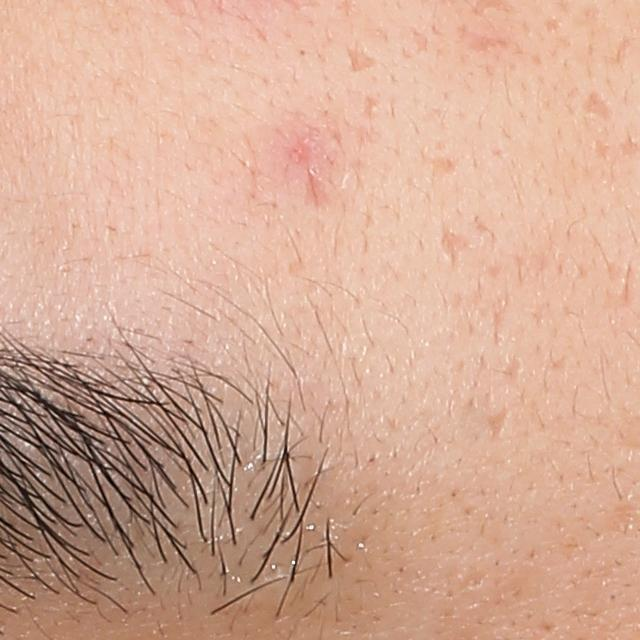atrophic_scar: (456, 22, 511, 54), (441, 232, 480, 270), (580, 90, 617, 128), (485, 404, 512, 443), (614, 32, 637, 68), (421, 154, 456, 177), (347, 45, 373, 70), (363, 91, 381, 119), (411, 31, 431, 54), (593, 142, 611, 162)
